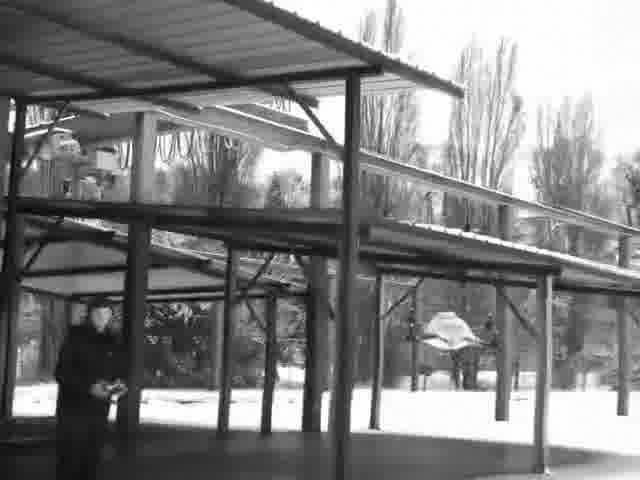drone: (390, 302, 511, 365)
